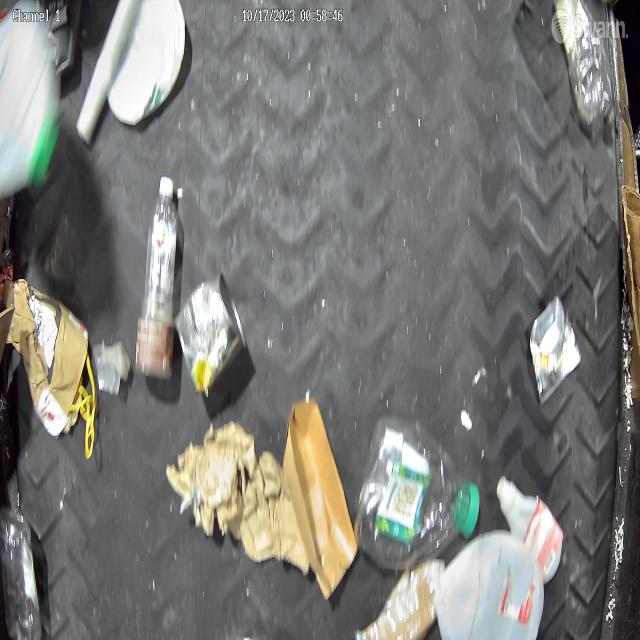can: (177, 280, 244, 390), (529, 293, 582, 409)
milk_jug: (439, 527, 547, 640)
plastic_bottle: (360, 421, 477, 567), (138, 180, 180, 383), (562, 3, 622, 128), (0, 506, 40, 640)
